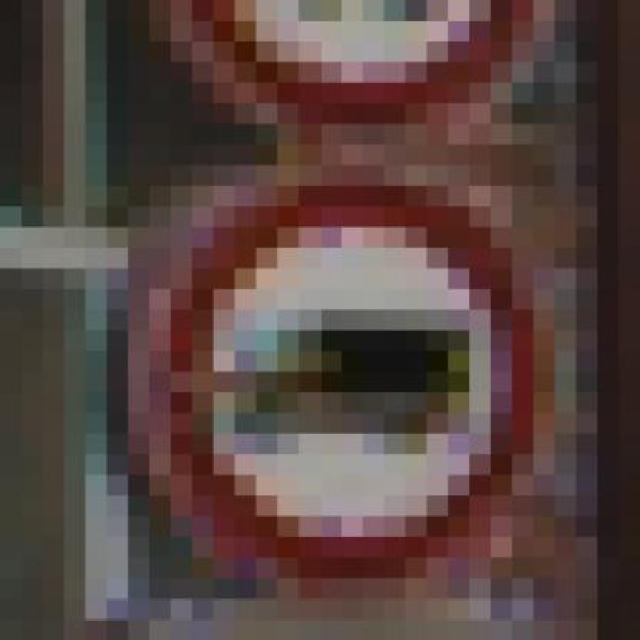Truck traffic is prohibited: (85, 124, 598, 599)
